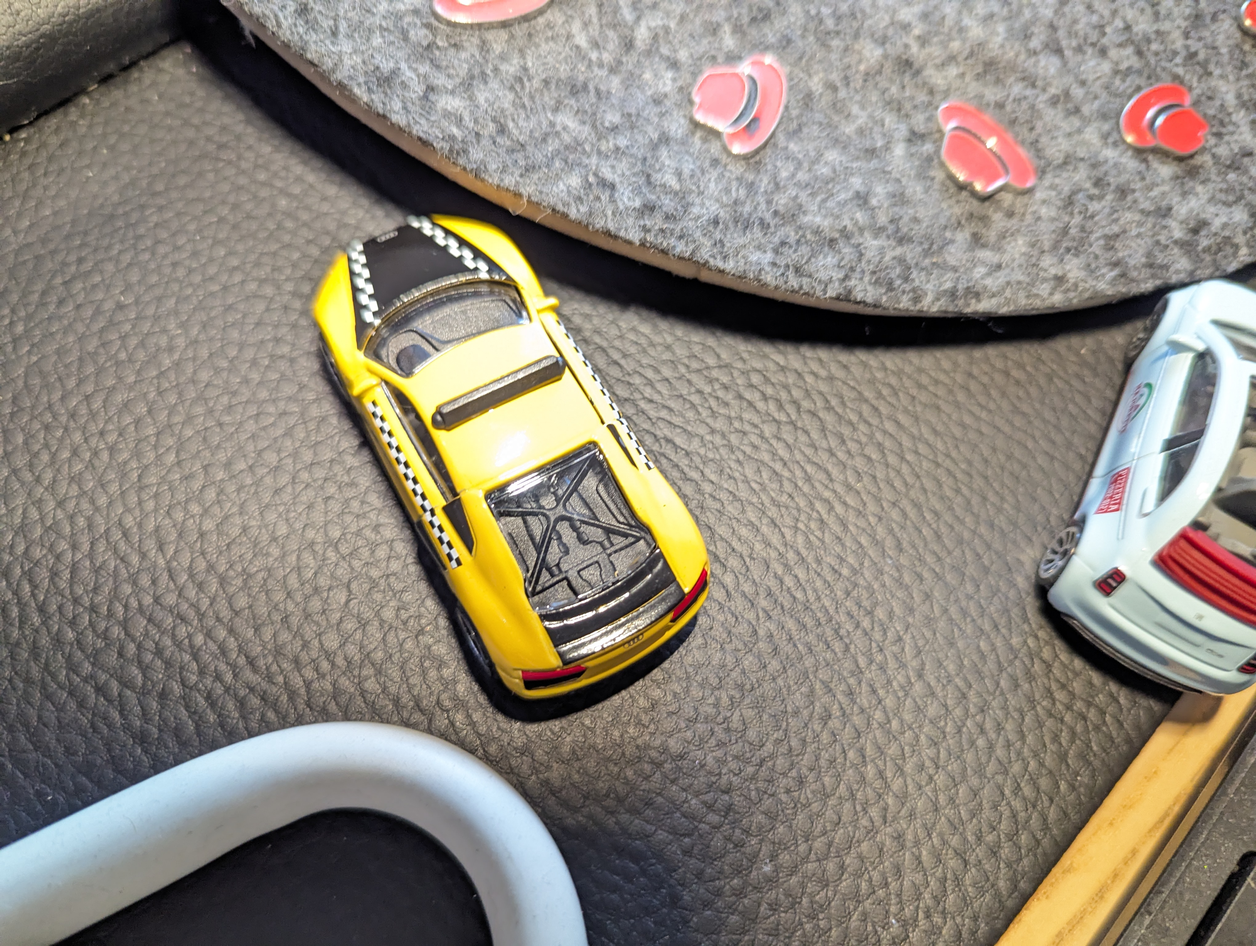Car: (275, 195, 751, 724), (1030, 272, 1256, 705)
Red-Hat: (684, 35, 798, 171), (922, 89, 1047, 211), (1107, 65, 1221, 169)
Scratch: (735, 112, 779, 139)
